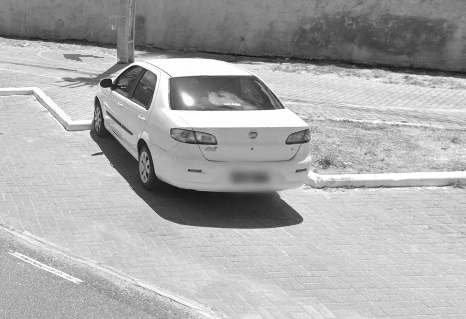car: (87, 48, 314, 213)
